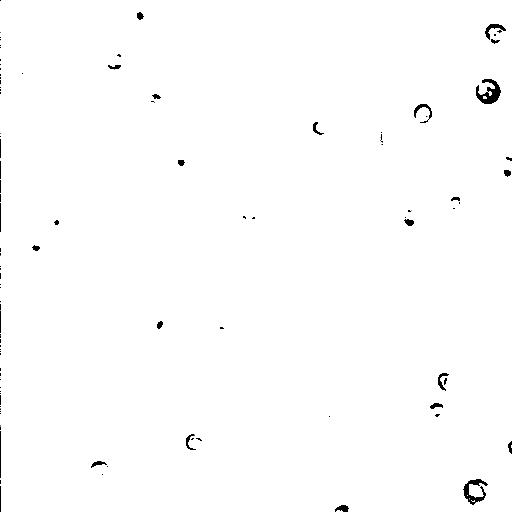micro-algae: (293, 204, 415, 319), (409, 363, 511, 487), (15, 11, 91, 84), (72, 0, 141, 65), (454, 426, 507, 479), (418, 186, 467, 234), (374, 10, 410, 49), (167, 145, 199, 181), (145, 307, 178, 341), (12, 57, 45, 89), (123, 0, 154, 31), (394, 204, 425, 234), (462, 477, 493, 506), (117, 335, 147, 363), (22, 233, 49, 261), (345, 315, 371, 344), (235, 200, 262, 227), (474, 77, 500, 105), (41, 211, 67, 238), (85, 457, 111, 483), (375, 124, 399, 149), (484, 20, 507, 43), (310, 115, 332, 136), (413, 102, 431, 125), (185, 432, 205, 452), (105, 52, 125, 70), (437, 371, 455, 391), (494, 160, 511, 181), (429, 401, 443, 418), (331, 502, 351, 512), (449, 195, 463, 209), (505, 438, 512, 455)
